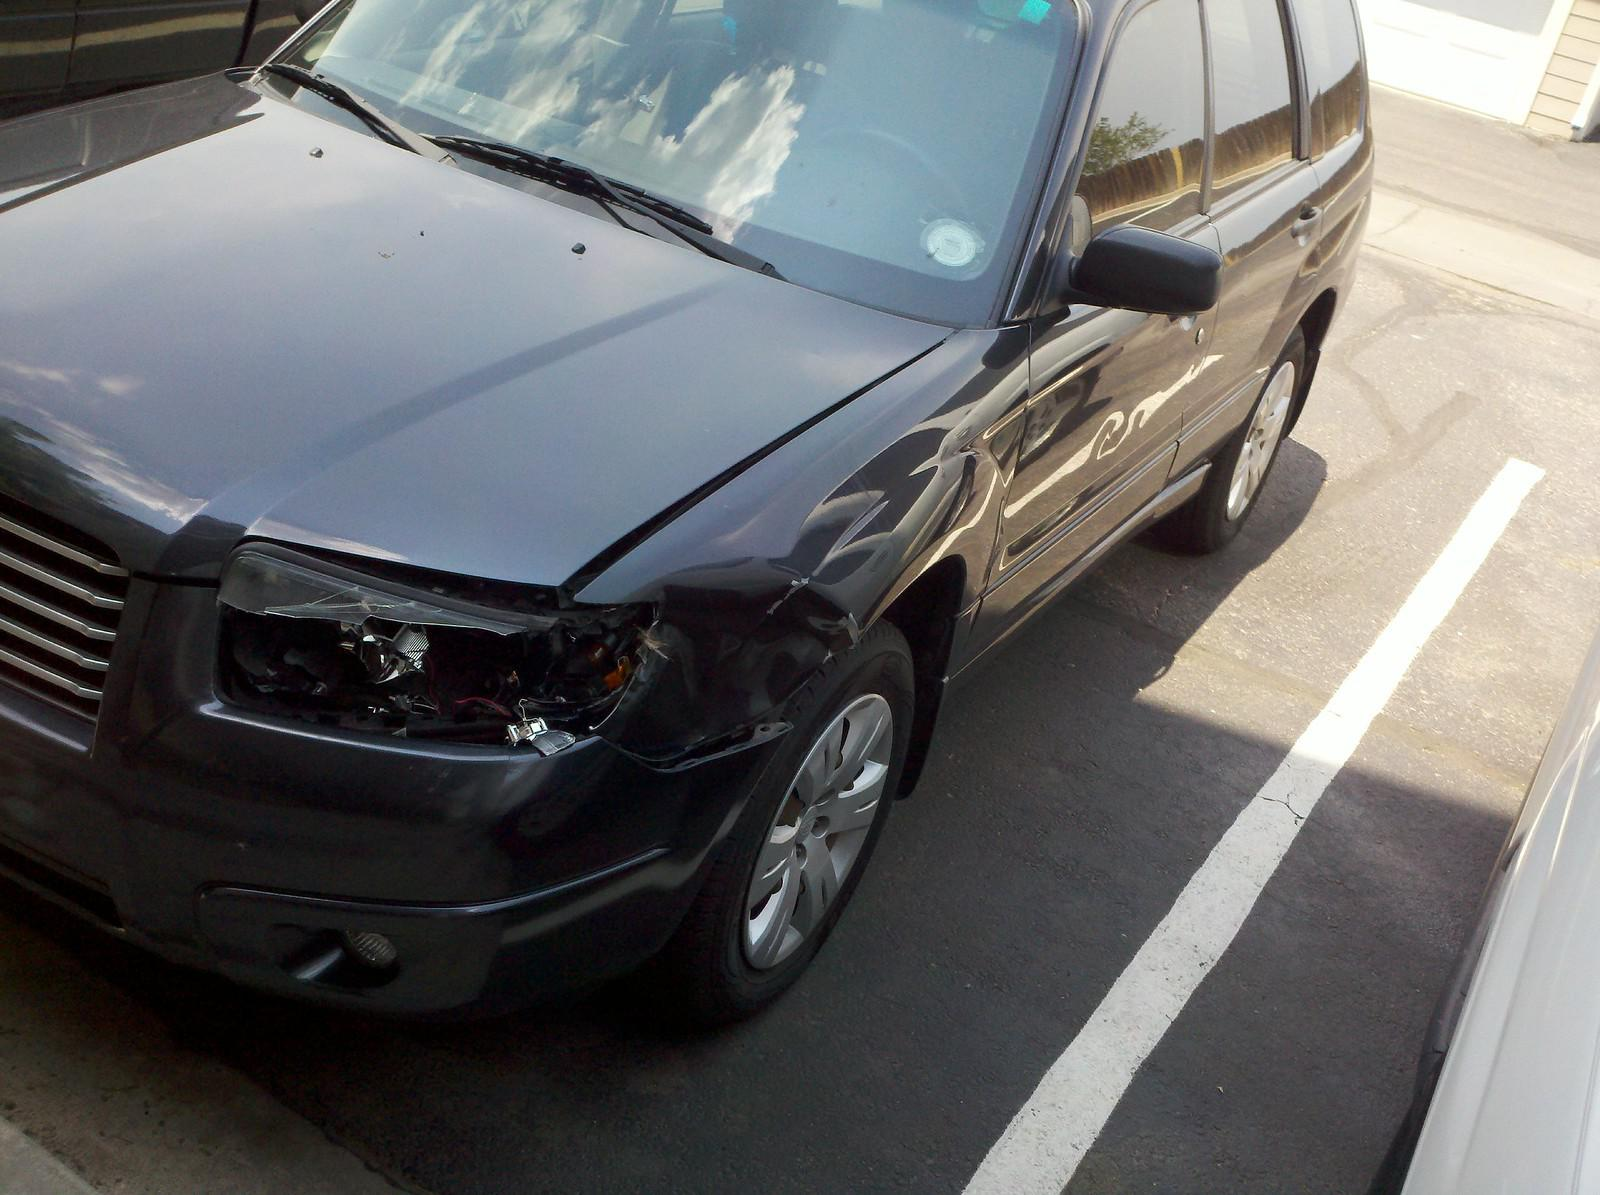Headlight-Damage: (161, 480, 710, 836)
